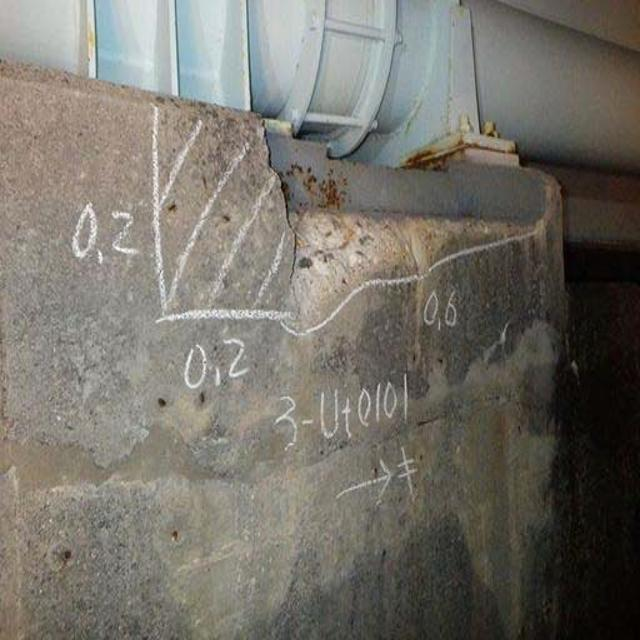spalling: (278, 201, 543, 350)
